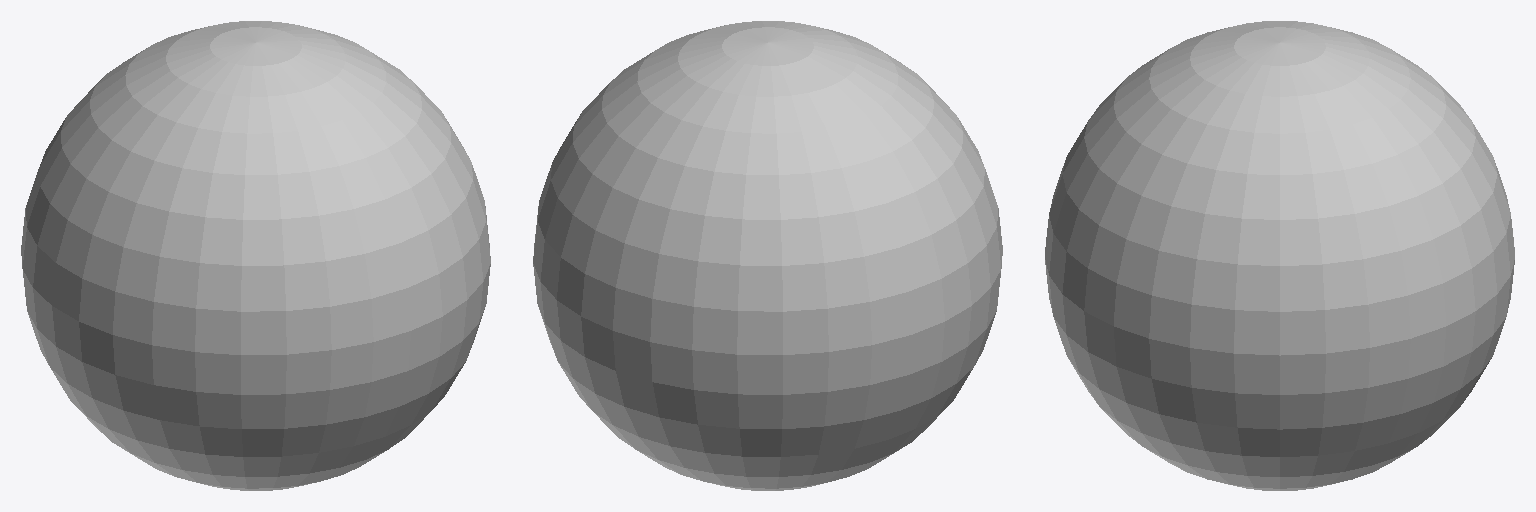
File: mercury.obj
The picture shows the model from 3 angles: view 1: azimuth 30°, elevation 25°; view 2: azimuth 150°, elevation 25°; view 3: azimuth 270°, elevation 25°; orthographic projection.
Visible parts, largest first — view 1: Mercury; view 2: Mercury; view 3: Mercury.
Part boxes in pixels (bbox=[...]): Mercury: bbox=[21, 21, 490, 490]; Mercury: bbox=[533, 21, 1002, 490]; Mercury: bbox=[1045, 21, 1514, 490].
Bounding box in the file's own units: 1 × 1 × 1.